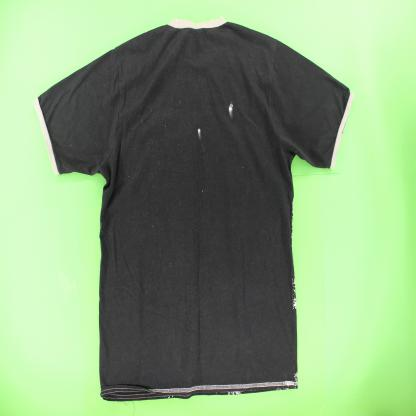stain: (227, 101, 235, 120), (197, 127, 203, 143)
